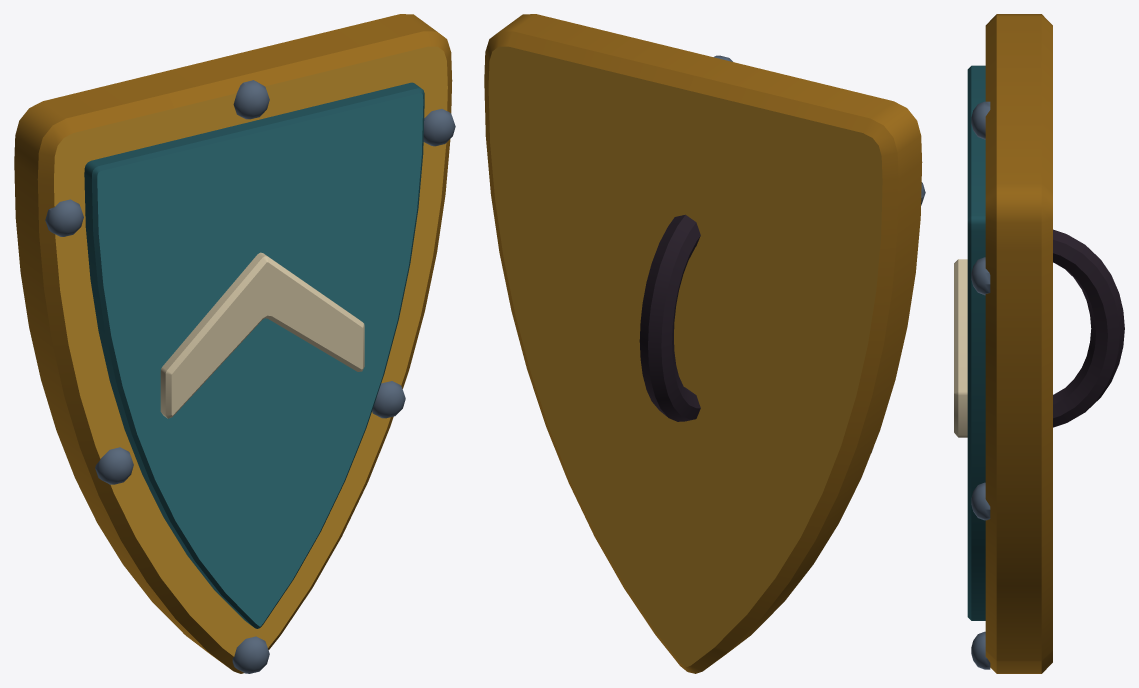
File: HeaterShield_09.glb
3 renders of one model, left to right at view 1: azimuth 30°, elevation 25°; view 2: azimuth 150°, elevation 25°; view 3: azimuth 270°, elevation 25°, orthographic. The views are drawn at different scales.
Visible parts, largest first — view 1: HeaterShield_09; view 2: HeaterShield_09; view 3: HeaterShield_09.
Boxes of the visible parts, box(x1,y1,x2,y2) form: HeaterShield_09: box(14, 14, 455, 673); HeaterShield_09: box(484, 14, 925, 673); HeaterShield_09: box(954, 14, 1124, 673).
Bounding box in the file's own units: 2.03 × 2.81 × 0.76.
